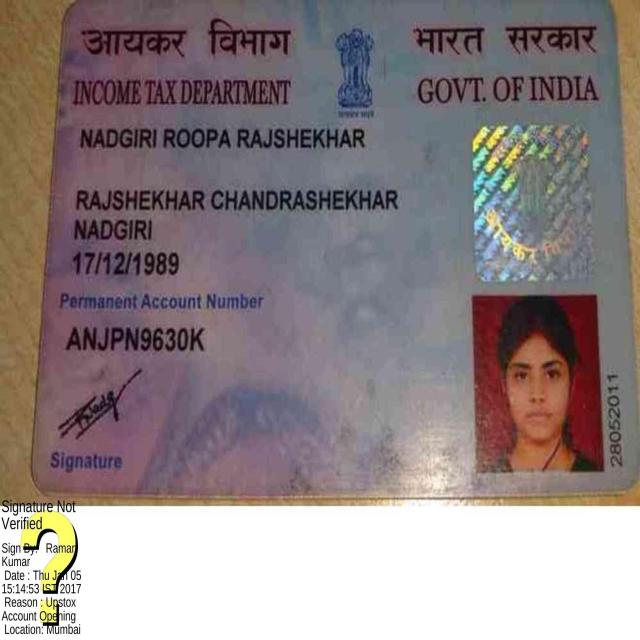pan_card: (36, 4, 639, 488)
